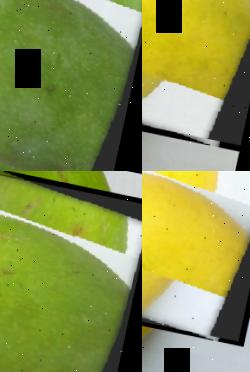PartiallyRipe: (142, 0, 250, 147)
Ripe: (142, 171, 250, 342)
Unripe: (0, 171, 142, 372), (0, 0, 142, 171)
